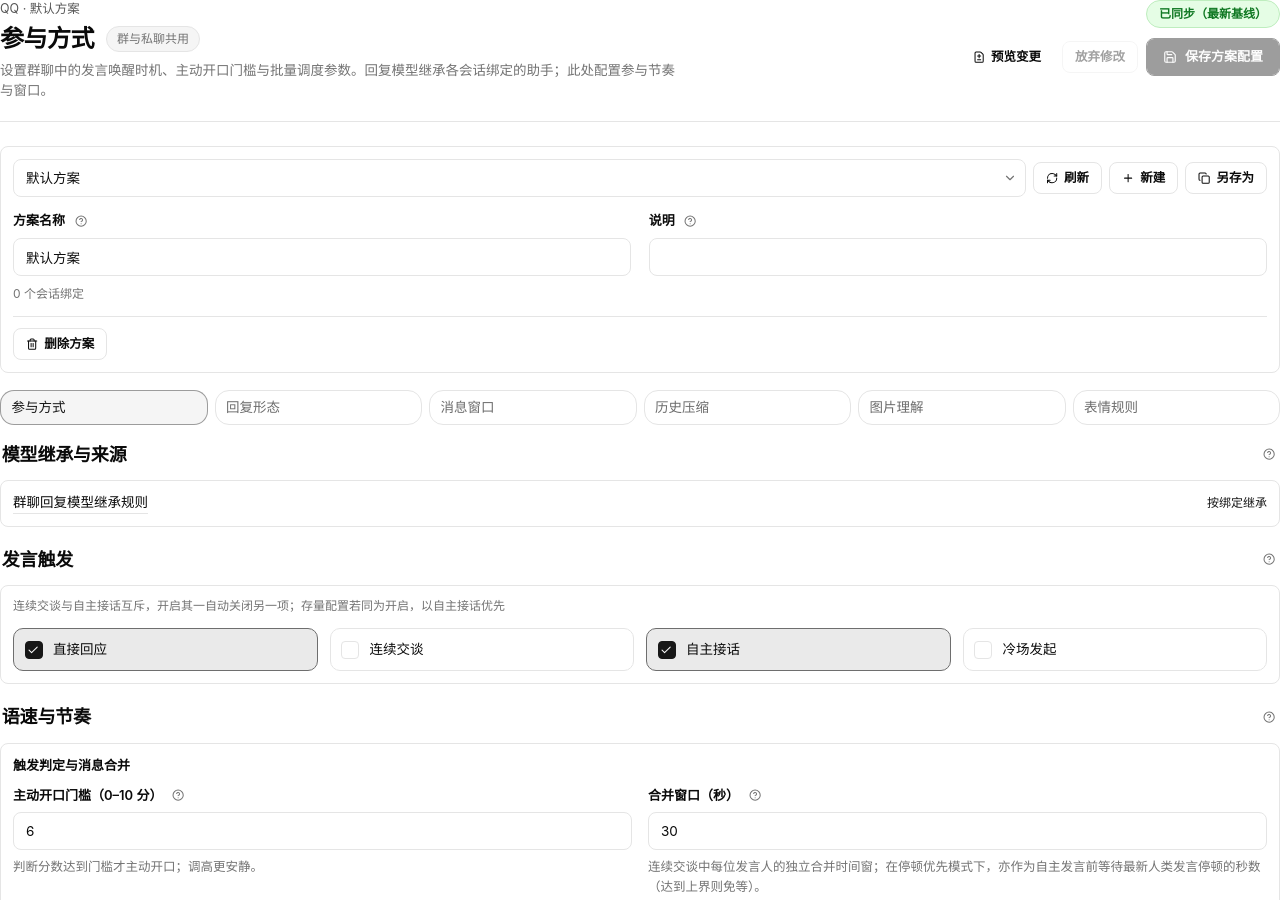
Test: Scheme change preview usability › previews changes under the page's field names instead of internal keys
Step 1. Replace the text in the number field labelled "合并窗口（秒）" with "15" → (958, 831), box [648, 812, 1267, 850]
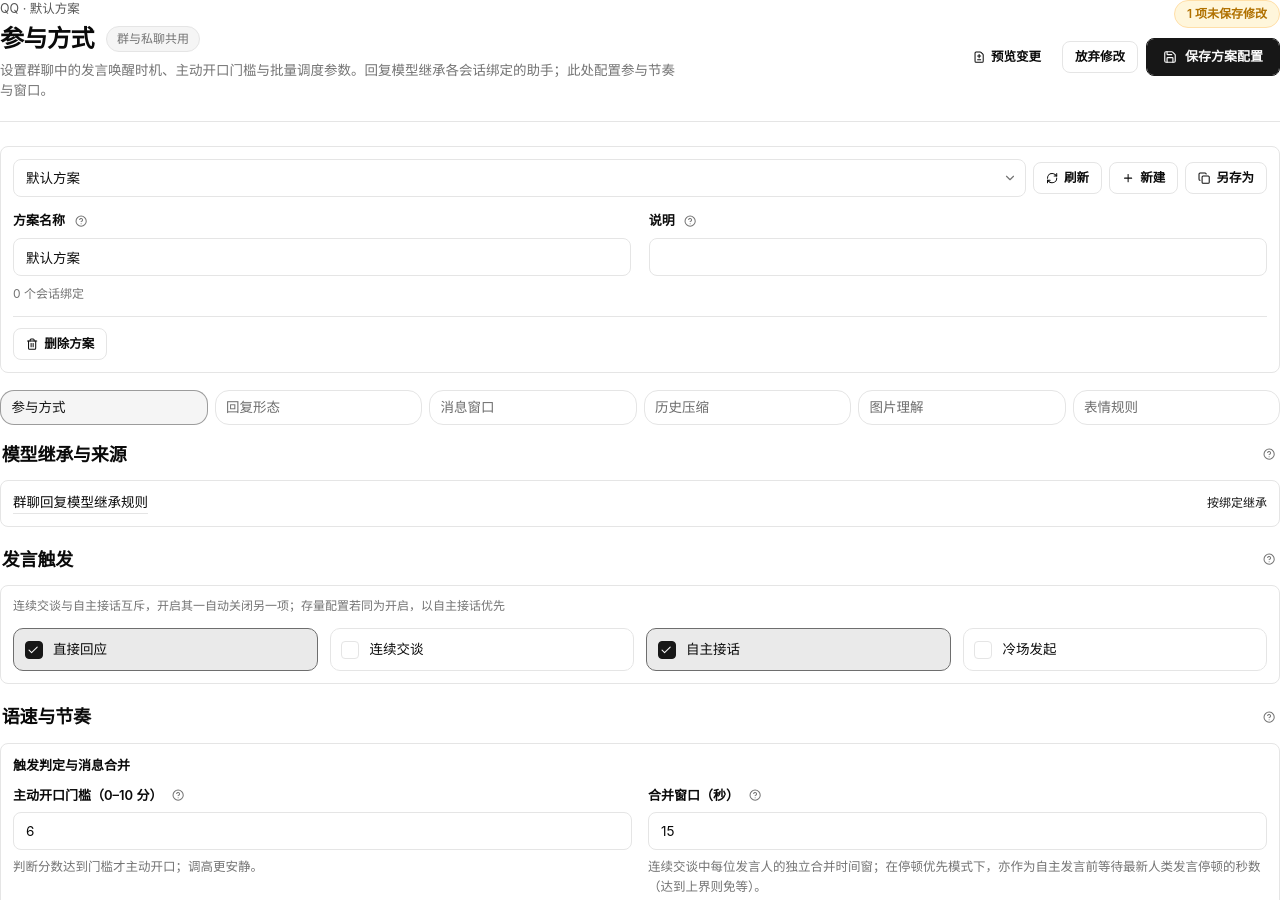
Step 2. Type "更安静" into the field labelled "说明" → (958, 257), box [649, 238, 1267, 276]
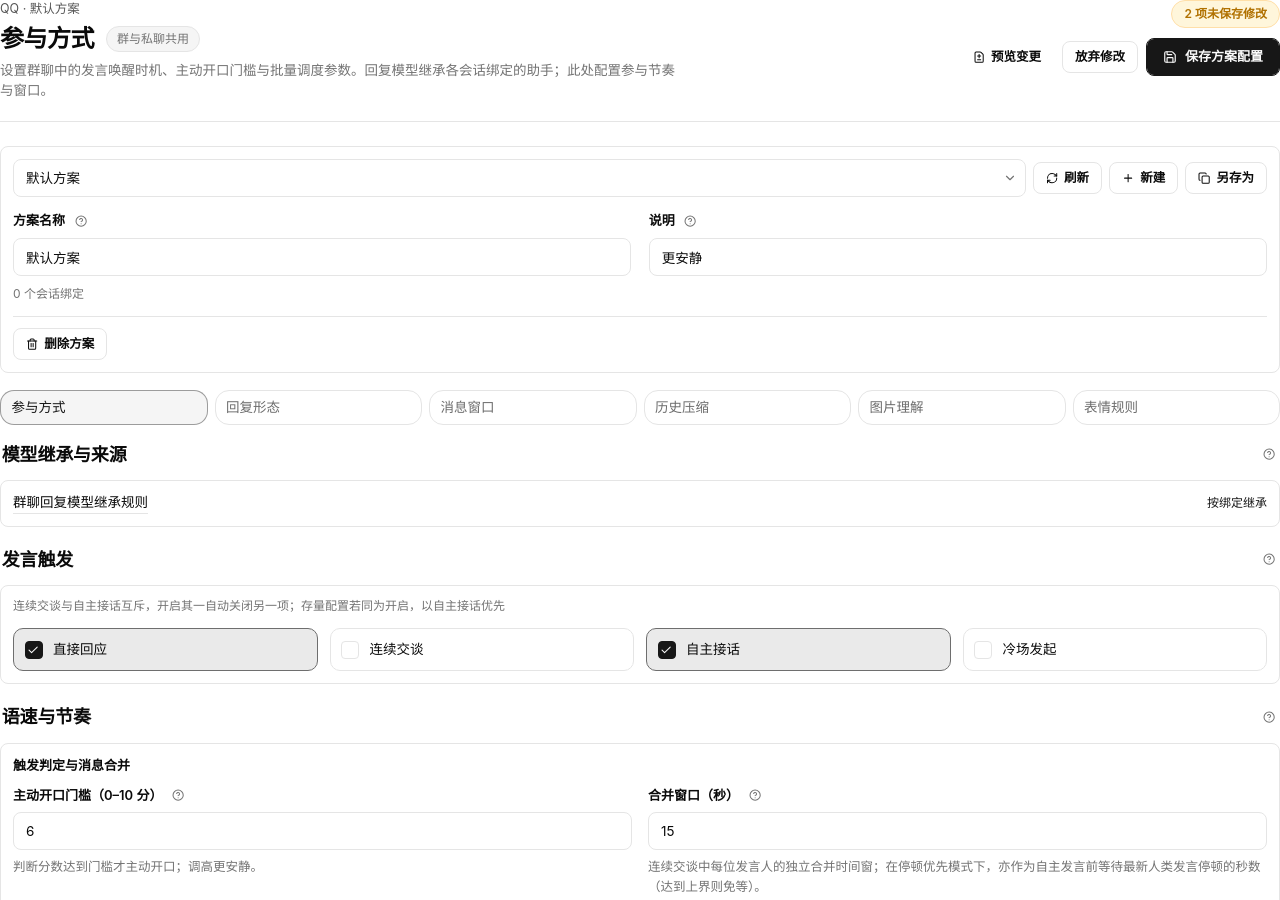
Step 3. Click the button "预览变更" → (1007, 57), box [960, 41, 1054, 73]
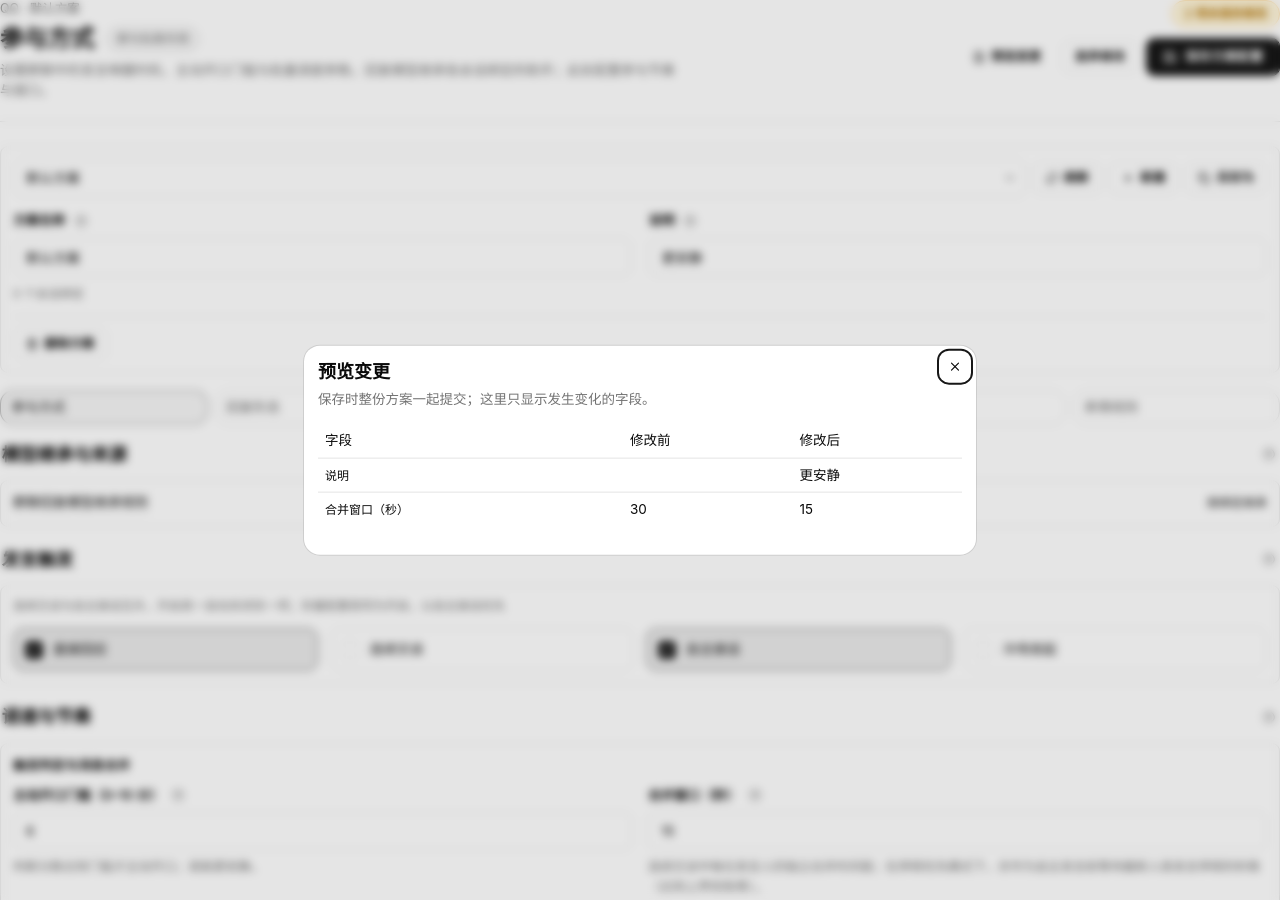
Check: the text "30" is shown, box [623, 493, 792, 526]
Check: the text "15" is shown, box [792, 493, 962, 526]
Check: the text "说明" is shown, box [325, 467, 349, 482]
